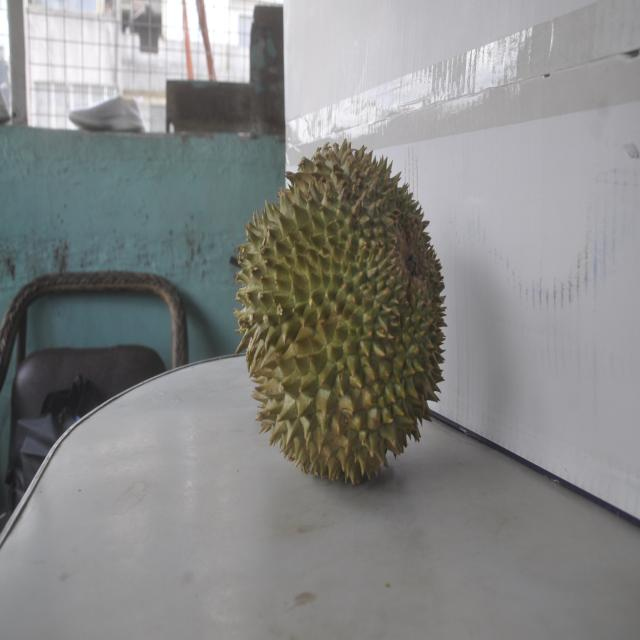mature: (232, 136, 432, 484)
